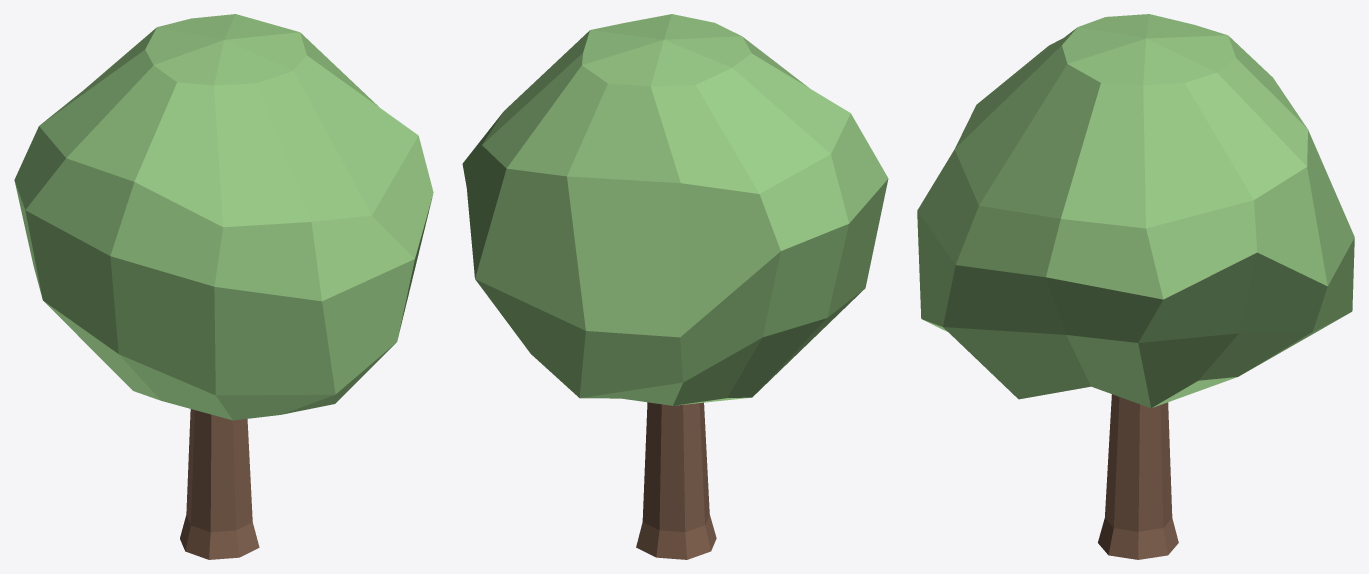
File: Leaves_01.fbx
The picture shows the model from 3 angles, left to right: view 1: azimuth 30°, elevation 25°; view 2: azimuth 150°, elevation 25°; view 3: azimuth 270°, elevation 25°; orthographic projection. The views are drawn at different scales.
Parts seen in each view (by area): view 1: Leaves_01; view 2: Leaves_01; view 3: Leaves_01.
Boxes of the visible parts, x1,y1,x2,y2 form: Leaves_01: (14,14,433,559); Leaves_01: (462,14,888,559); Leaves_01: (917,14,1354,559).
Size of the model in its own units: 175 by 218 by 170.
